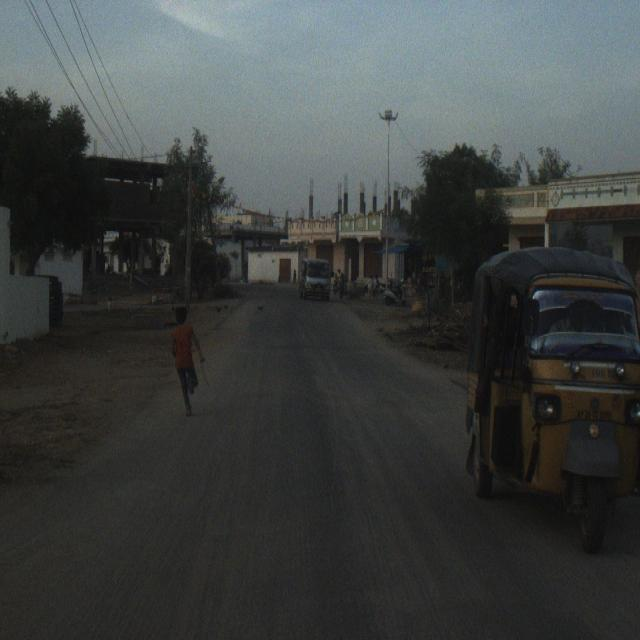high: (162, 291, 214, 432)
